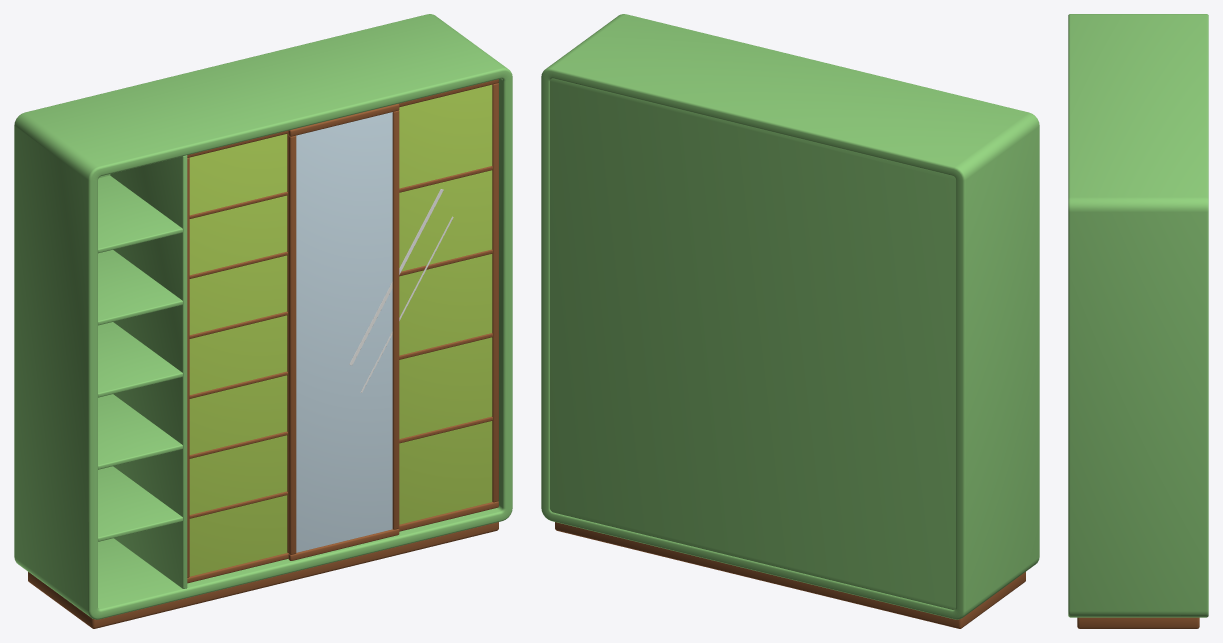
Rendered from guarda_roupa_correr_espelho_verde.glb.
3 renders of one model, left to right at view 1: azimuth 30°, elevation 25°; view 2: azimuth 150°, elevation 25°; view 3: azimuth 270°, elevation 25°, orthographic. The views are drawn at different scales.
Visible parts, largest first — view 1: guarda_roupa_correr_espelho_verde, correr_3, correr_1, correr_2; view 2: guarda_roupa_correr_espelho_verde; view 3: guarda_roupa_correr_espelho_verde.
Boxes of the visible parts, <box> form: guarda_roupa_correr_espelho_verde: <box>14,14,512,628</box>; correr_3: <box>288,104,453,560</box>; correr_1: <box>187,130,288,583</box>; correr_2: <box>398,79,498,531</box>; guarda_roupa_correr_espelho_verde: <box>541,14,1039,628</box>; guarda_roupa_correr_espelho_verde: <box>1068,14,1208,628</box>.
Bounding box in the file's own units: 2 × 2.1 × 0.62.
Materials: 2 (1 with a texture image).
